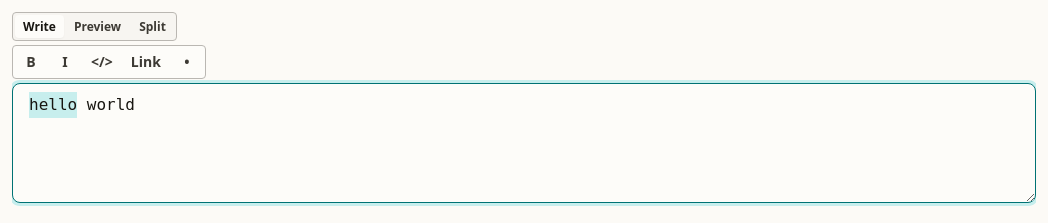
MarkdownField toolbar › inserts markers around the selection via selectionStart
Click the button named "Bold". click: x=31, y=62
box: [15,48,47,76]
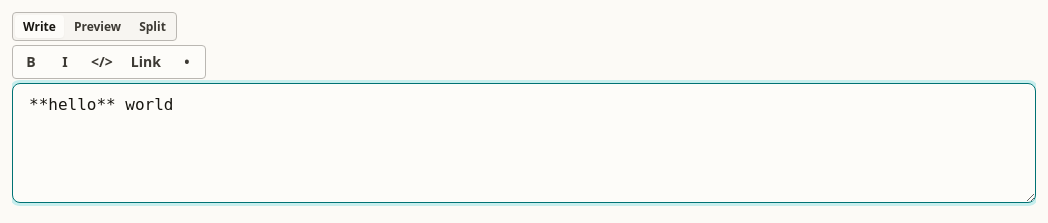
Now the text box holds "**hello** world", box [12,83,1036,203]
